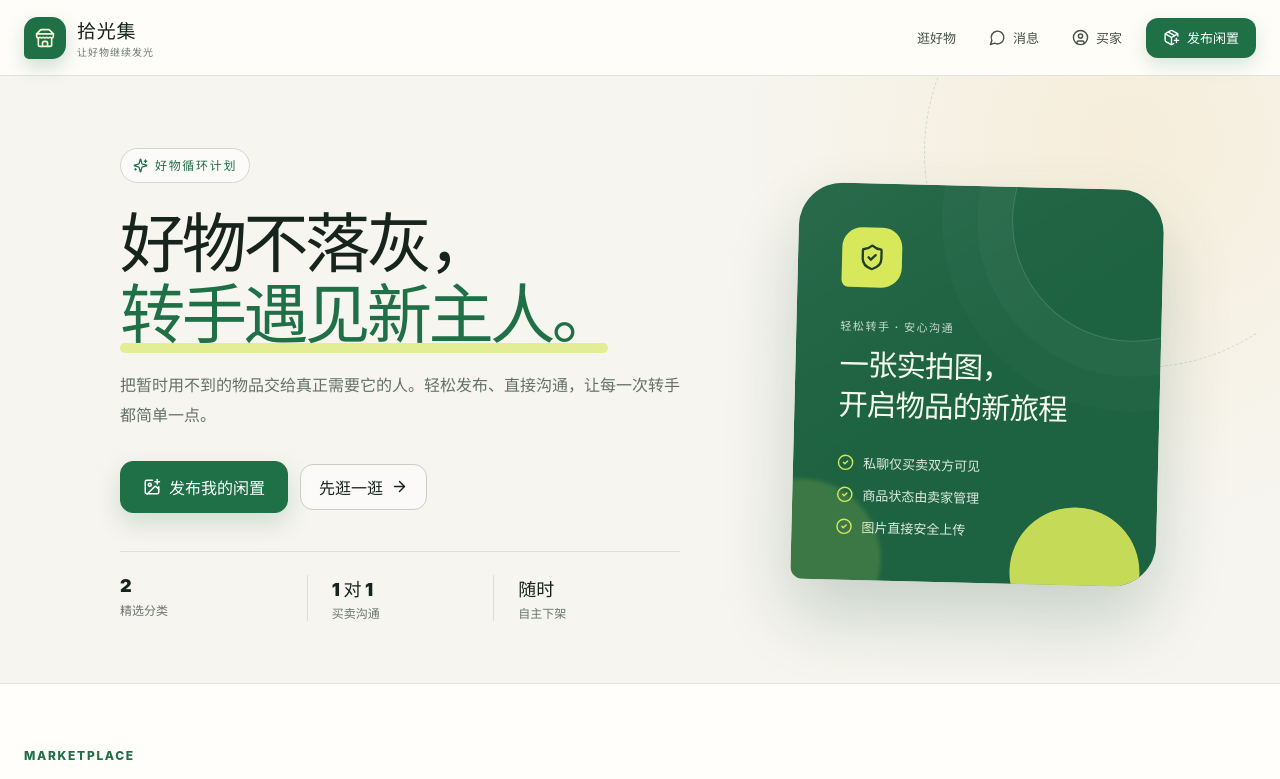
Test: marketplace app › does not restore a logged-out account from a late startup verification
The image size is (1280, 779).
Step 1. Click the button "买家" → [1097, 38], box [1059, 18, 1135, 58]
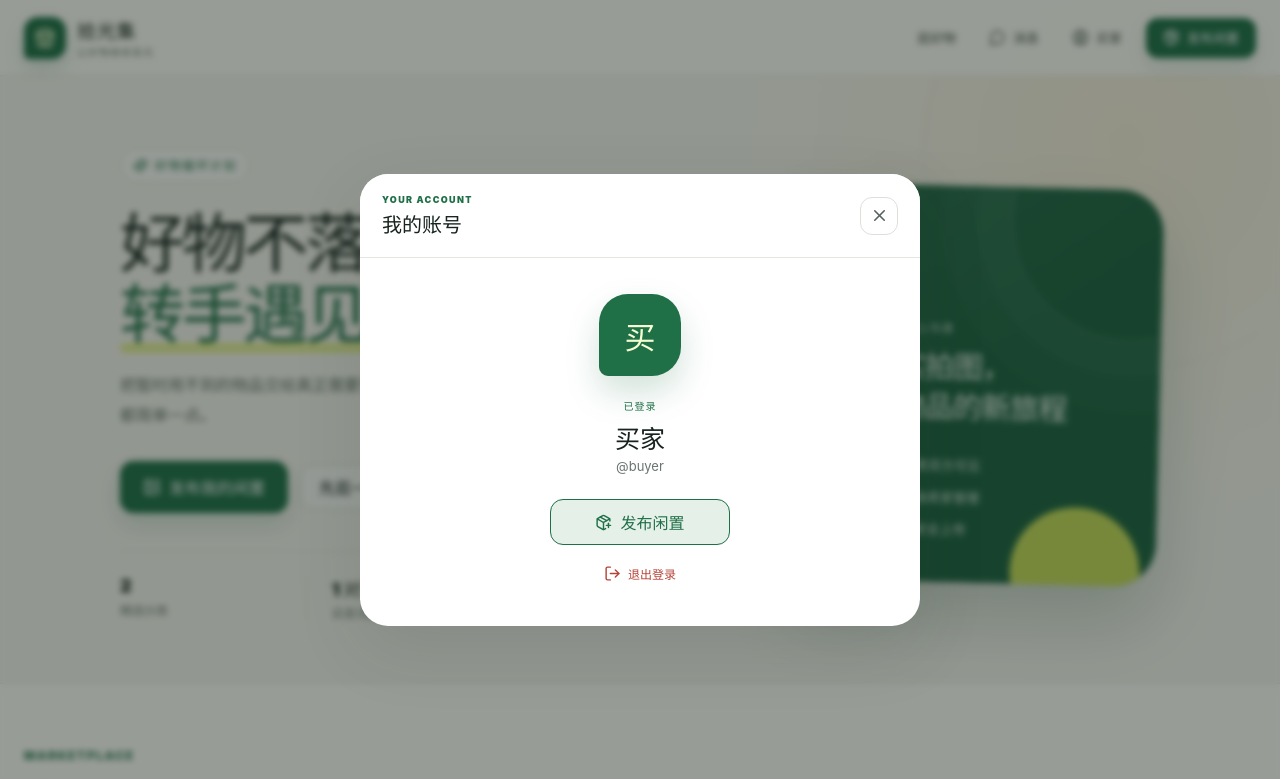
Step 2. Click the button "退出登录" → [640, 574], box [592, 557, 688, 590]
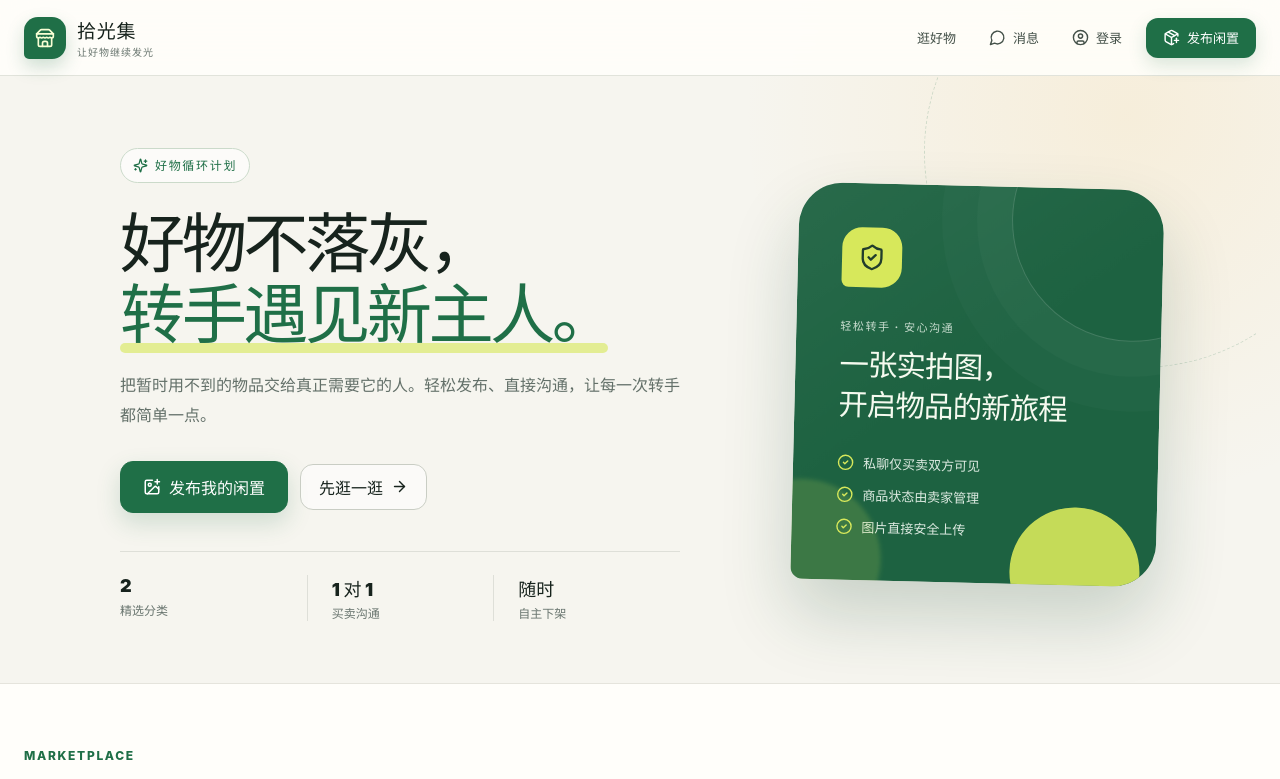
Expected: the button "登录" is shown, [1059, 18, 1135, 58]
